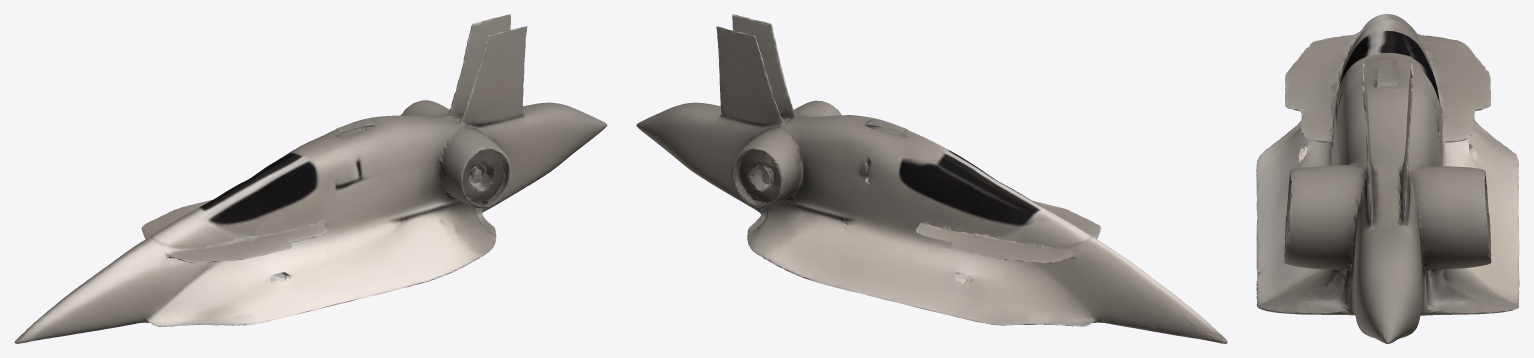
File: falcon_hull.glb
3 renders of one model, left to right at view 1: azimuth 30°, elevation 25°; view 2: azimuth 150°, elevation 25°; view 3: azimuth 270°, elevation 25°, orthographic. The views are drawn at different scales.
Parts seen in each view (by area): view 1: falcon_hull; view 2: falcon_hull; view 3: falcon_hull.
Part boxes in pixels (bbox=[...]): falcon_hull: bbox=[14, 14, 607, 343]; falcon_hull: bbox=[636, 14, 1227, 343]; falcon_hull: bbox=[1256, 14, 1519, 343].
Size of the model in its own units: 1.89 by 0.6198 by 0.4895.
Materials: 1 (1 with a texture image).
